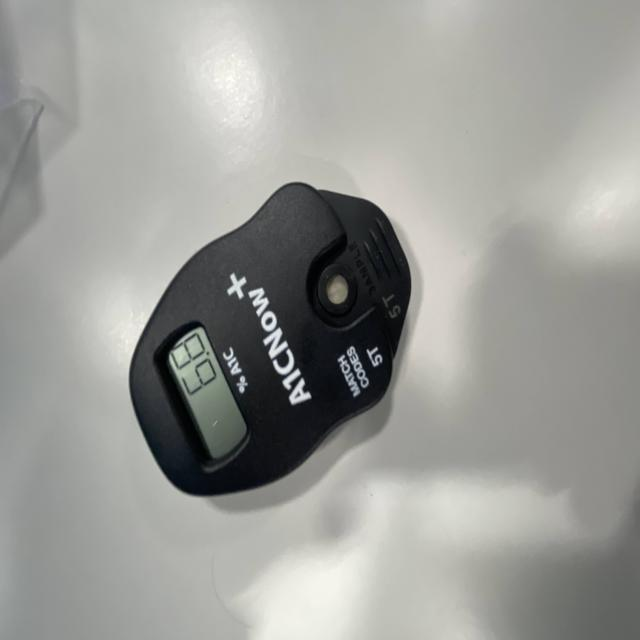hba1c: (127, 183, 422, 503)
